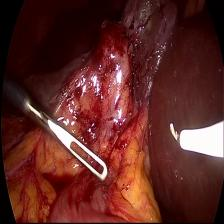Grasper: (24, 93, 110, 185)
Hook: (165, 108, 224, 170)
